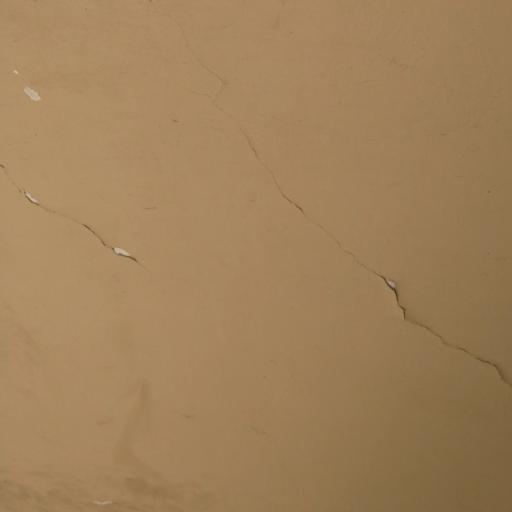minor_crack: (176, 0, 512, 427), (0, 139, 152, 291)
